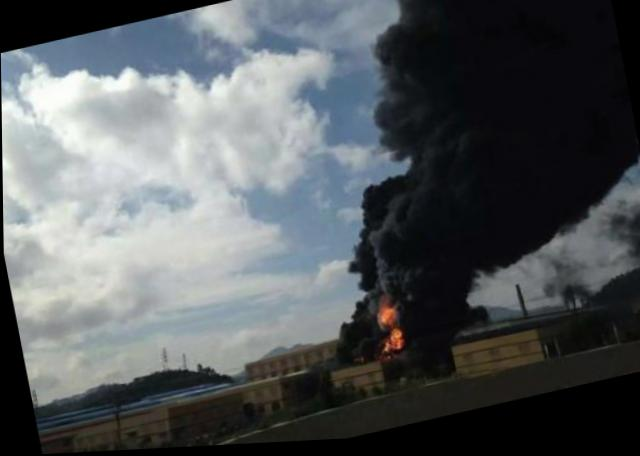fire: (378, 330, 401, 352), (373, 303, 393, 328)
